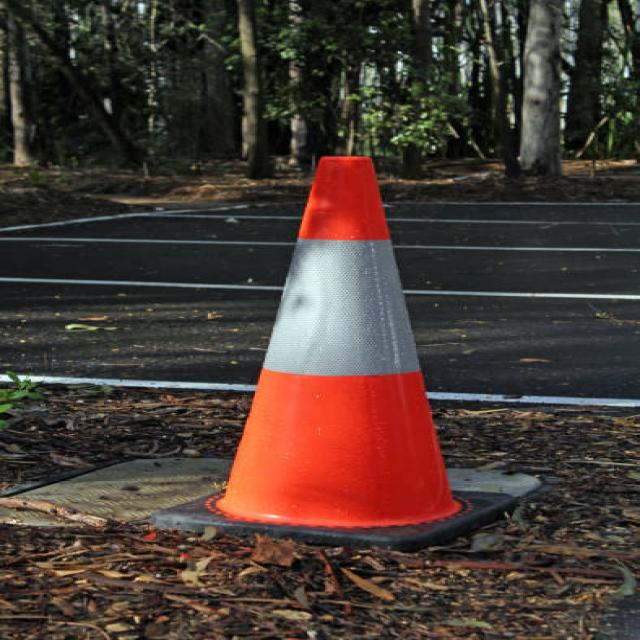Traffic Cone: (127, 113, 571, 584)
